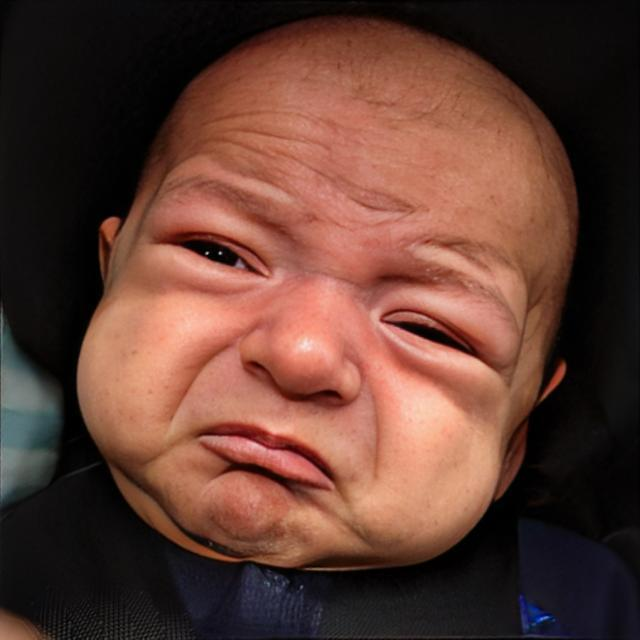sad: (75, 18, 579, 577)
